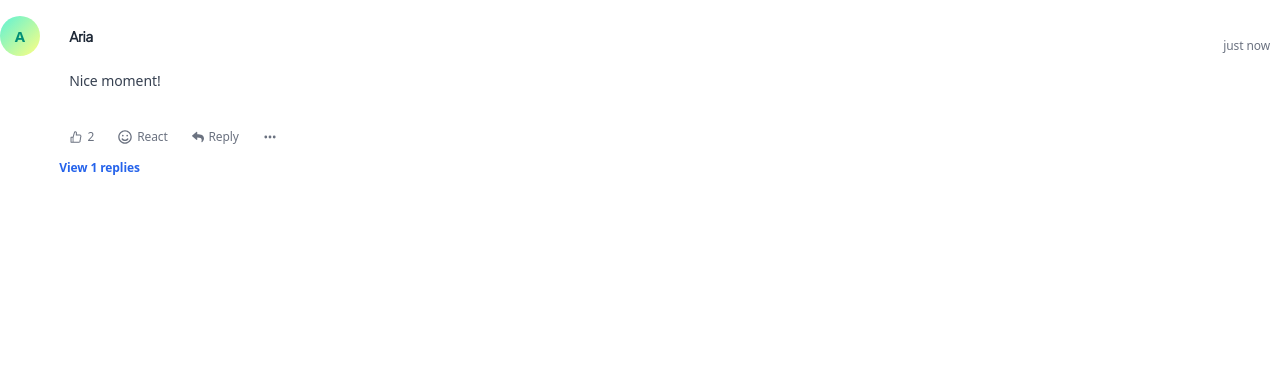
Test: CommentItem › toggles the replies thread when the comment has replies
Click the button with test id "comment-replies-toggle". click: (100, 168)
box: [59,160,140,176]
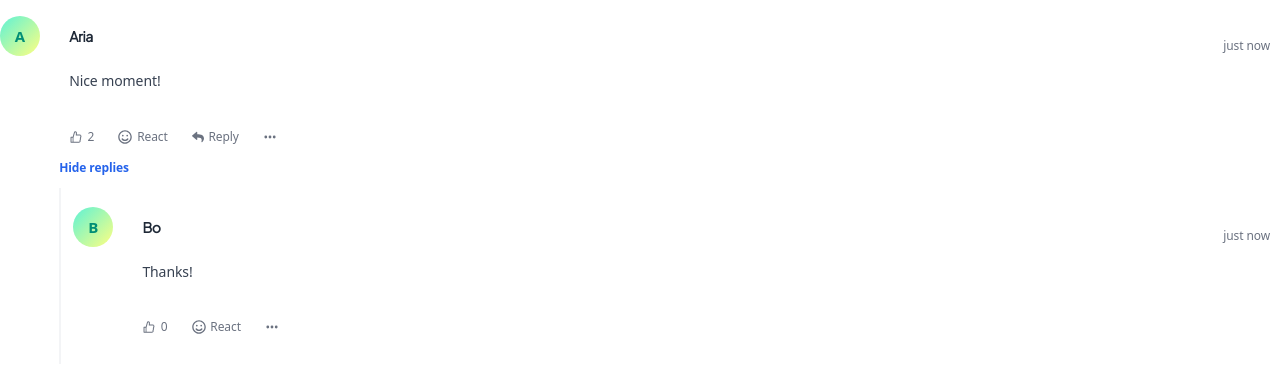
Now the element with test id "replies-thread" is shown, box [59,188,1279,364]
Now the heading "Bo" is shown, box [142,217,161,237]
Click the button with test id "comment-replies-toggle". click: (94, 168)
box: [59,160,129,176]
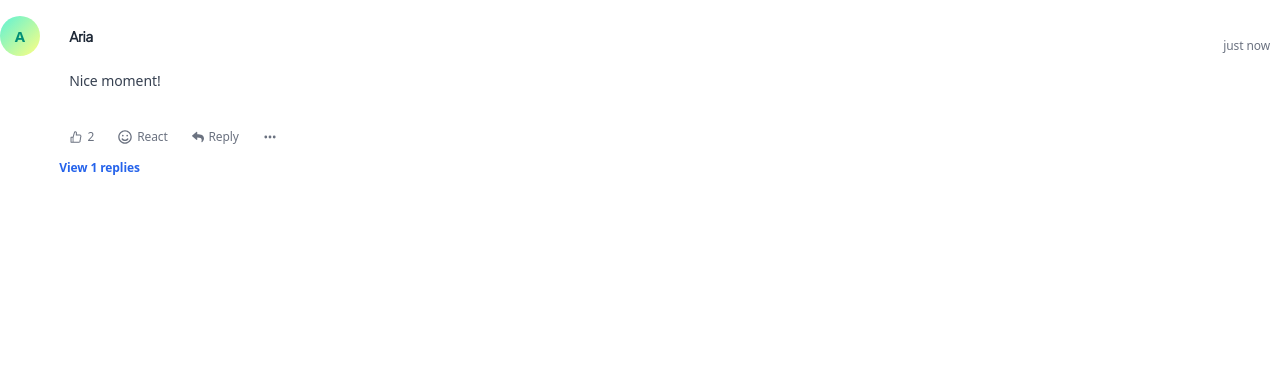
Now the element with test id "replies-thread" is gone
